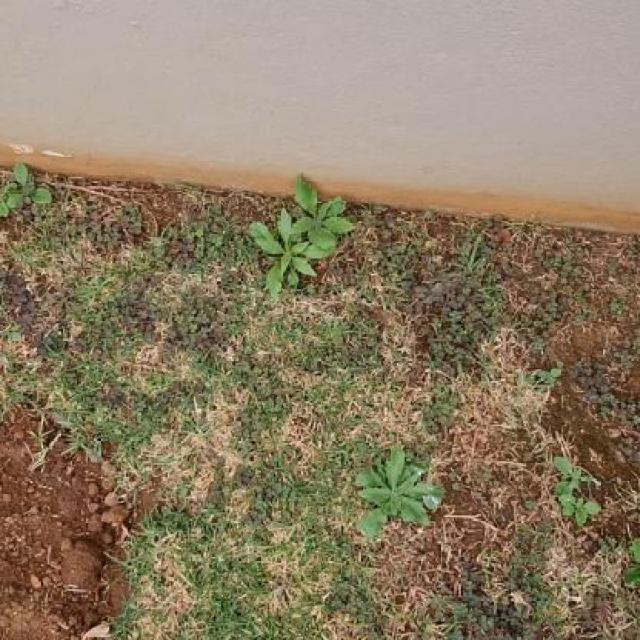weed: (251, 177, 354, 296), (358, 446, 443, 539), (555, 458, 602, 528), (0, 163, 51, 218)
